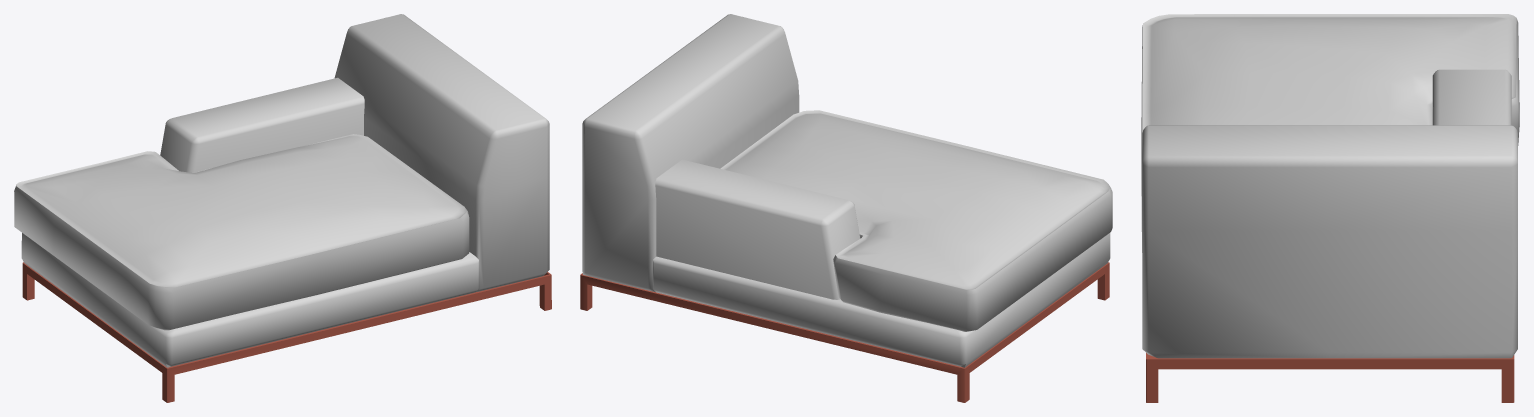
File: KramforsLefthandChaise.FBX
3 views of the same model, side by side, from view 1: azimuth 30°, elevation 25°; view 2: azimuth 150°, elevation 25°; view 3: azimuth 270°, elevation 25° (orthographic). The views are drawn at different scales.
Visible parts, largest first — view 1: KramforsLefthandChaise; view 2: KramforsLefthandChaise; view 3: KramforsLefthandChaise.
Part boxes in pixels (x1,y1,x2,y2): KramforsLefthandChaise: (14, 14, 551, 402); KramforsLefthandChaise: (580, 14, 1112, 402); KramforsLefthandChaise: (1141, 14, 1519, 402).
Bounding box in the file's own units: 160 × 105 × 74.13.
